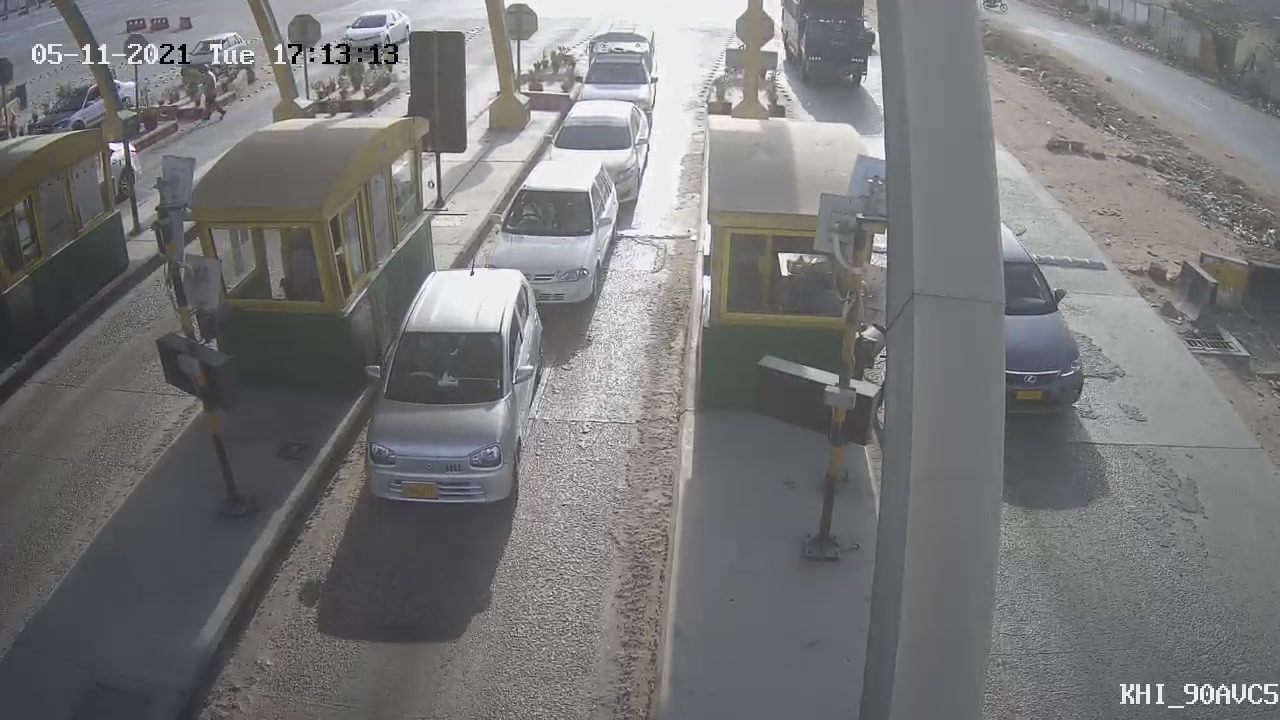F1: (338, 252, 563, 522), (476, 149, 633, 321)
